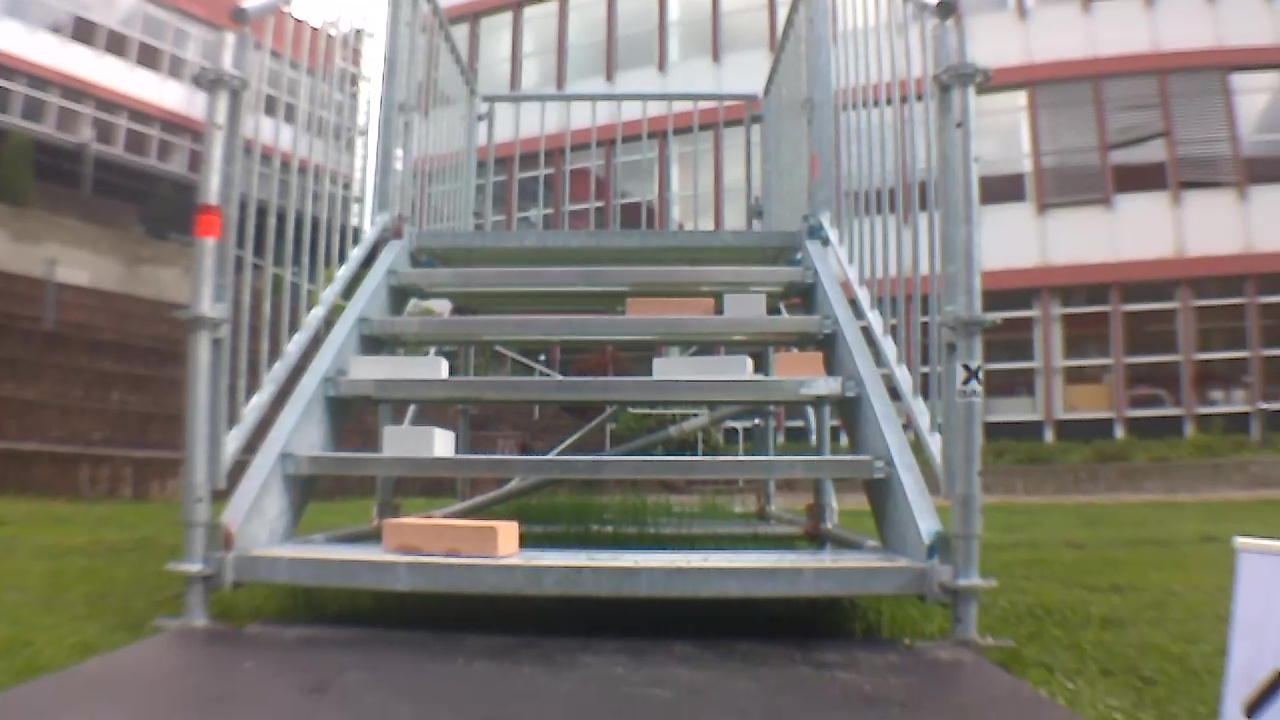brick: (383, 517, 517, 557), (652, 355, 752, 378), (349, 355, 448, 377), (385, 426, 454, 456), (626, 297, 715, 317), (775, 351, 822, 378), (723, 295, 766, 317)
edge: (235, 554, 921, 597), (282, 456, 889, 477), (325, 376, 862, 399), (359, 314, 835, 334), (388, 267, 815, 284), (411, 229, 799, 246)
stairs: (167, 2, 1003, 647)
steps: (225, 222, 925, 604)
